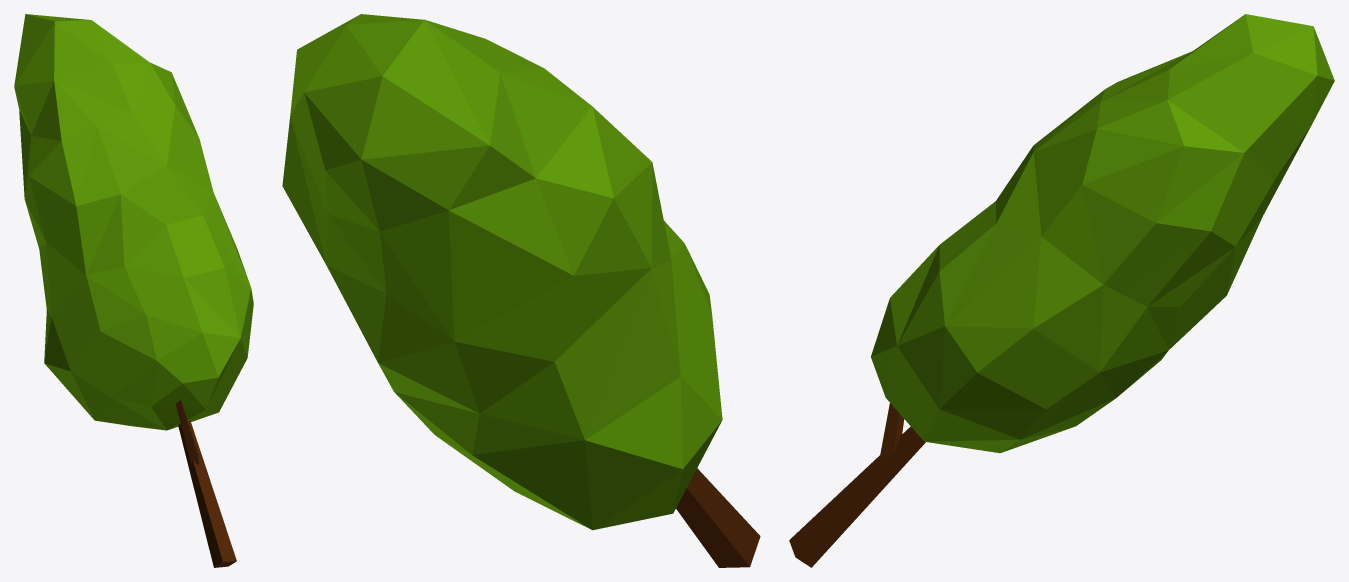
The model's file is greekTreeNarrow.fbx.
3 views of the same model, side by side, from view 1: azimuth 30°, elevation 25°; view 2: azimuth 150°, elevation 25°; view 3: azimuth 270°, elevation 25° (orthographic). The views are drawn at different scales.
Parts seen in each view (by area): view 1: tree-beech; view 2: tree-beech; view 3: tree-beech.
Boxes of the visible parts, <box> form: tree-beech: <box>14,14,253,567</box>; tree-beech: <box>282,14,760,567</box>; tree-beech: <box>789,14,1334,567</box>.
Size of the model in its own units: 105 by 236 by 212.
